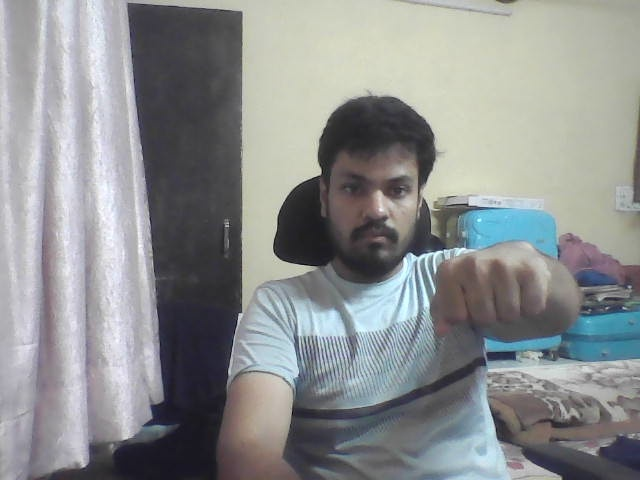Yes: (402, 232, 578, 348)
